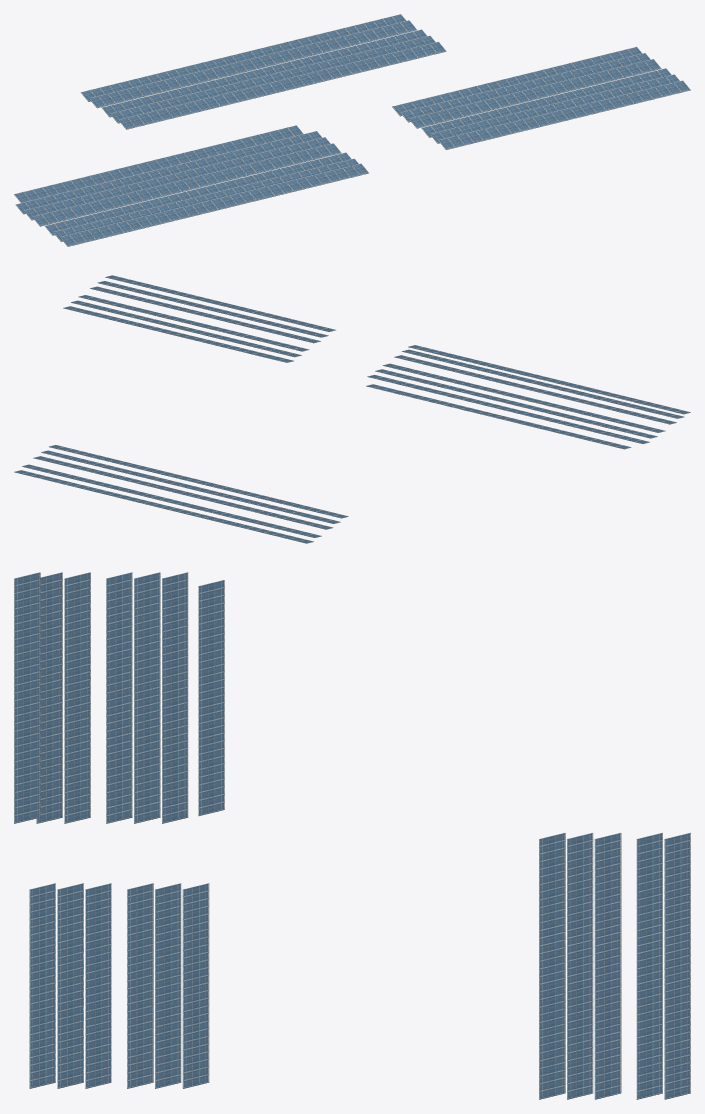
The model's file is pv-panels.glb.
3 views of the same model, one above another, from view 1: azimuth 30°, elevation 25°; view 2: azimuth 150°, elevation 25°; view 3: azimuth 270°, elevation 25° (orthographic). The views are drawn at different scales.
Size of the model in its own units: 77.89 by 6.55 by 43.71.
Materials: 5 (3 with a texture image).
